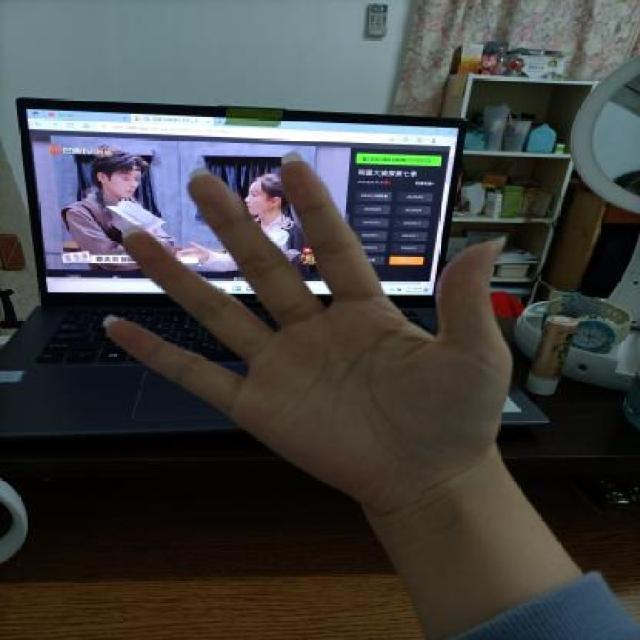bare_hand: (84, 143, 530, 520)
